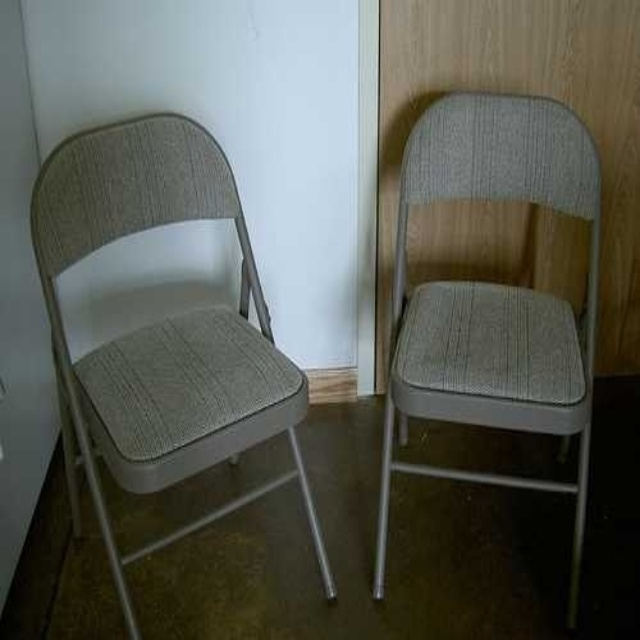obstacle: (31, 113, 335, 637), (374, 92, 599, 626)
